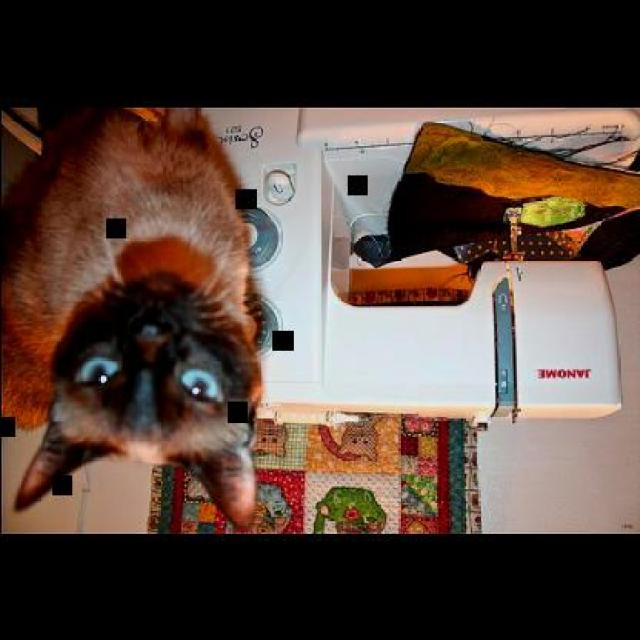unauthorized: (0, 105, 266, 526)
